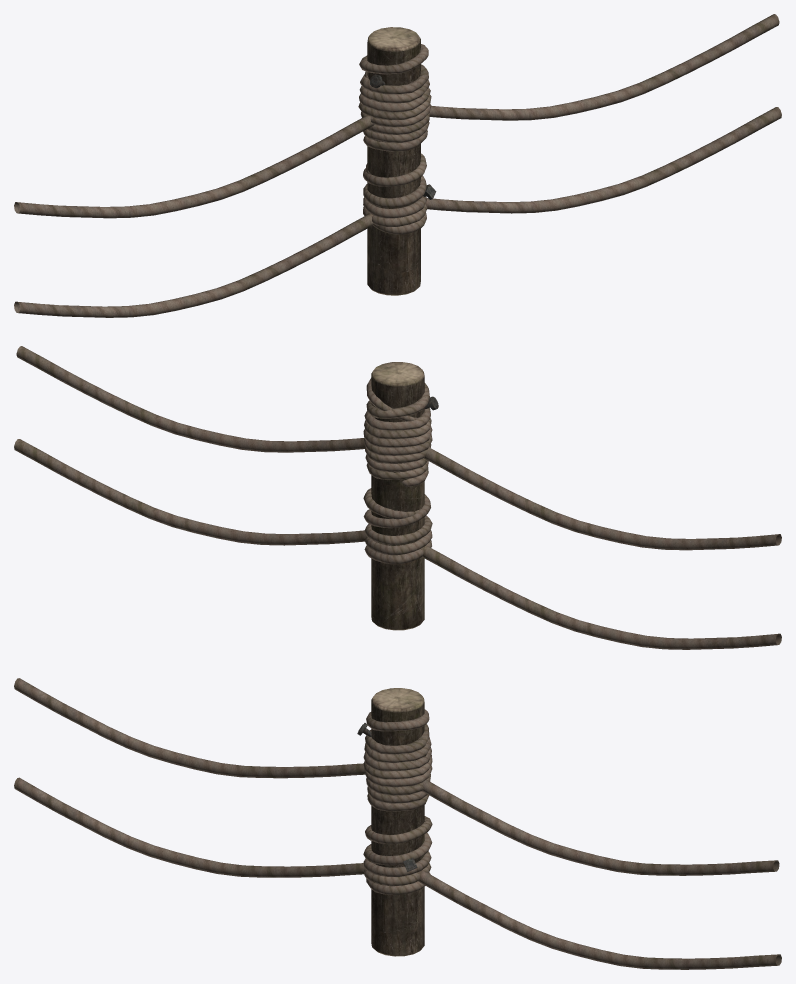
Rendered from rope_fence02.fbx.
The picture shows the model from 3 angles, top to bottom: view 1: azimuth 30°, elevation 25°; view 2: azimuth 150°, elevation 25°; view 3: azimuth 330°, elevation 25°; orthographic projection.
Visible parts, largest first — view 1: rope_fence02; view 2: rope_fence02; view 3: rope_fence02.
Part boxes in pixels (bbox=[...]): rope_fence02: bbox=[14, 14, 781, 317]; rope_fence02: bbox=[14, 346, 781, 649]; rope_fence02: bbox=[14, 678, 781, 969].
Bounding box in the file's own units: 479 × 148 × 39.85.
